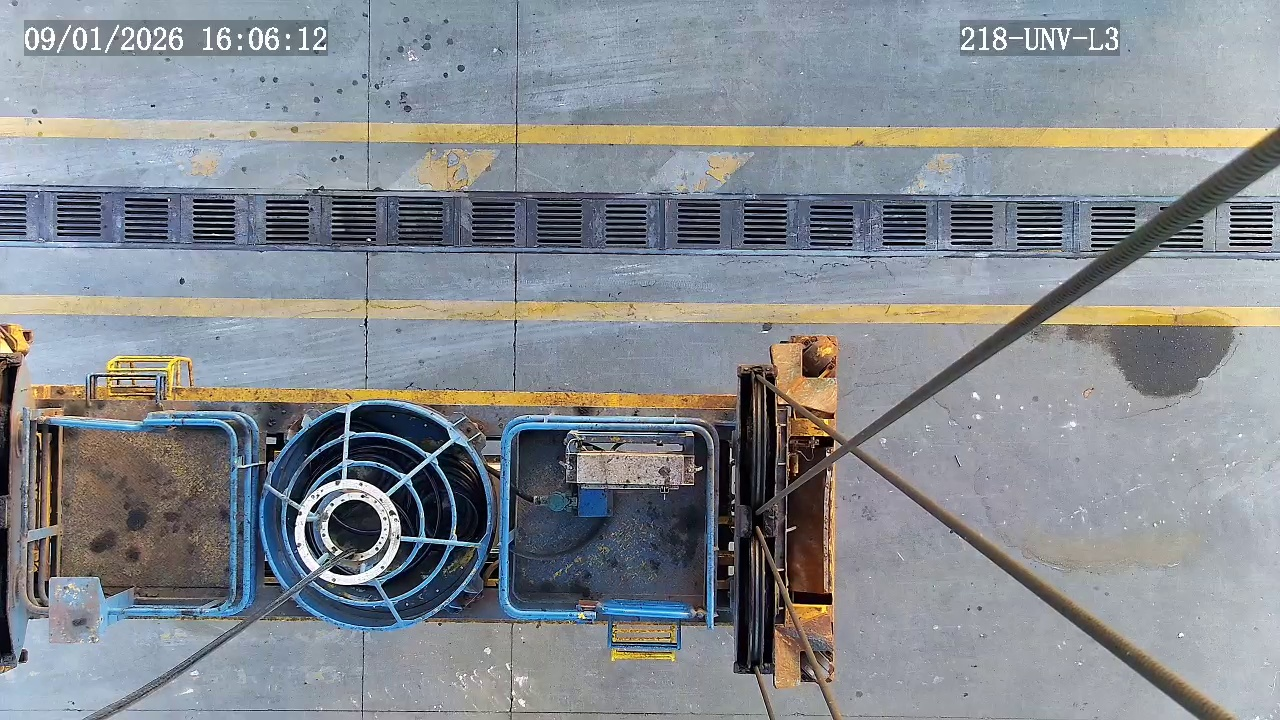right: (260, 402, 492, 631)
